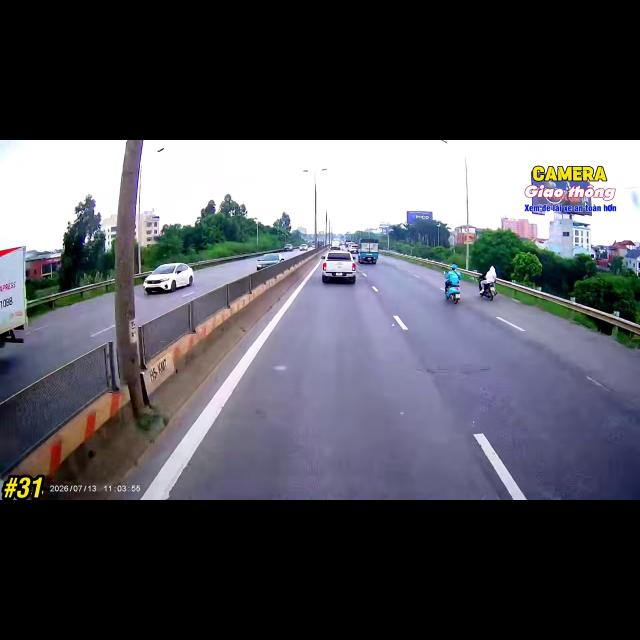car: (143, 263, 193, 293), (322, 250, 356, 283), (257, 253, 284, 270), (348, 244, 359, 254), (284, 244, 293, 251), (299, 244, 308, 250), (329, 246, 341, 250)
motorcycle: (445, 284, 460, 303), (480, 283, 496, 300), (446, 284, 460, 303)
truck: (0, 247, 27, 347), (359, 239, 378, 263), (331, 240, 339, 246)
